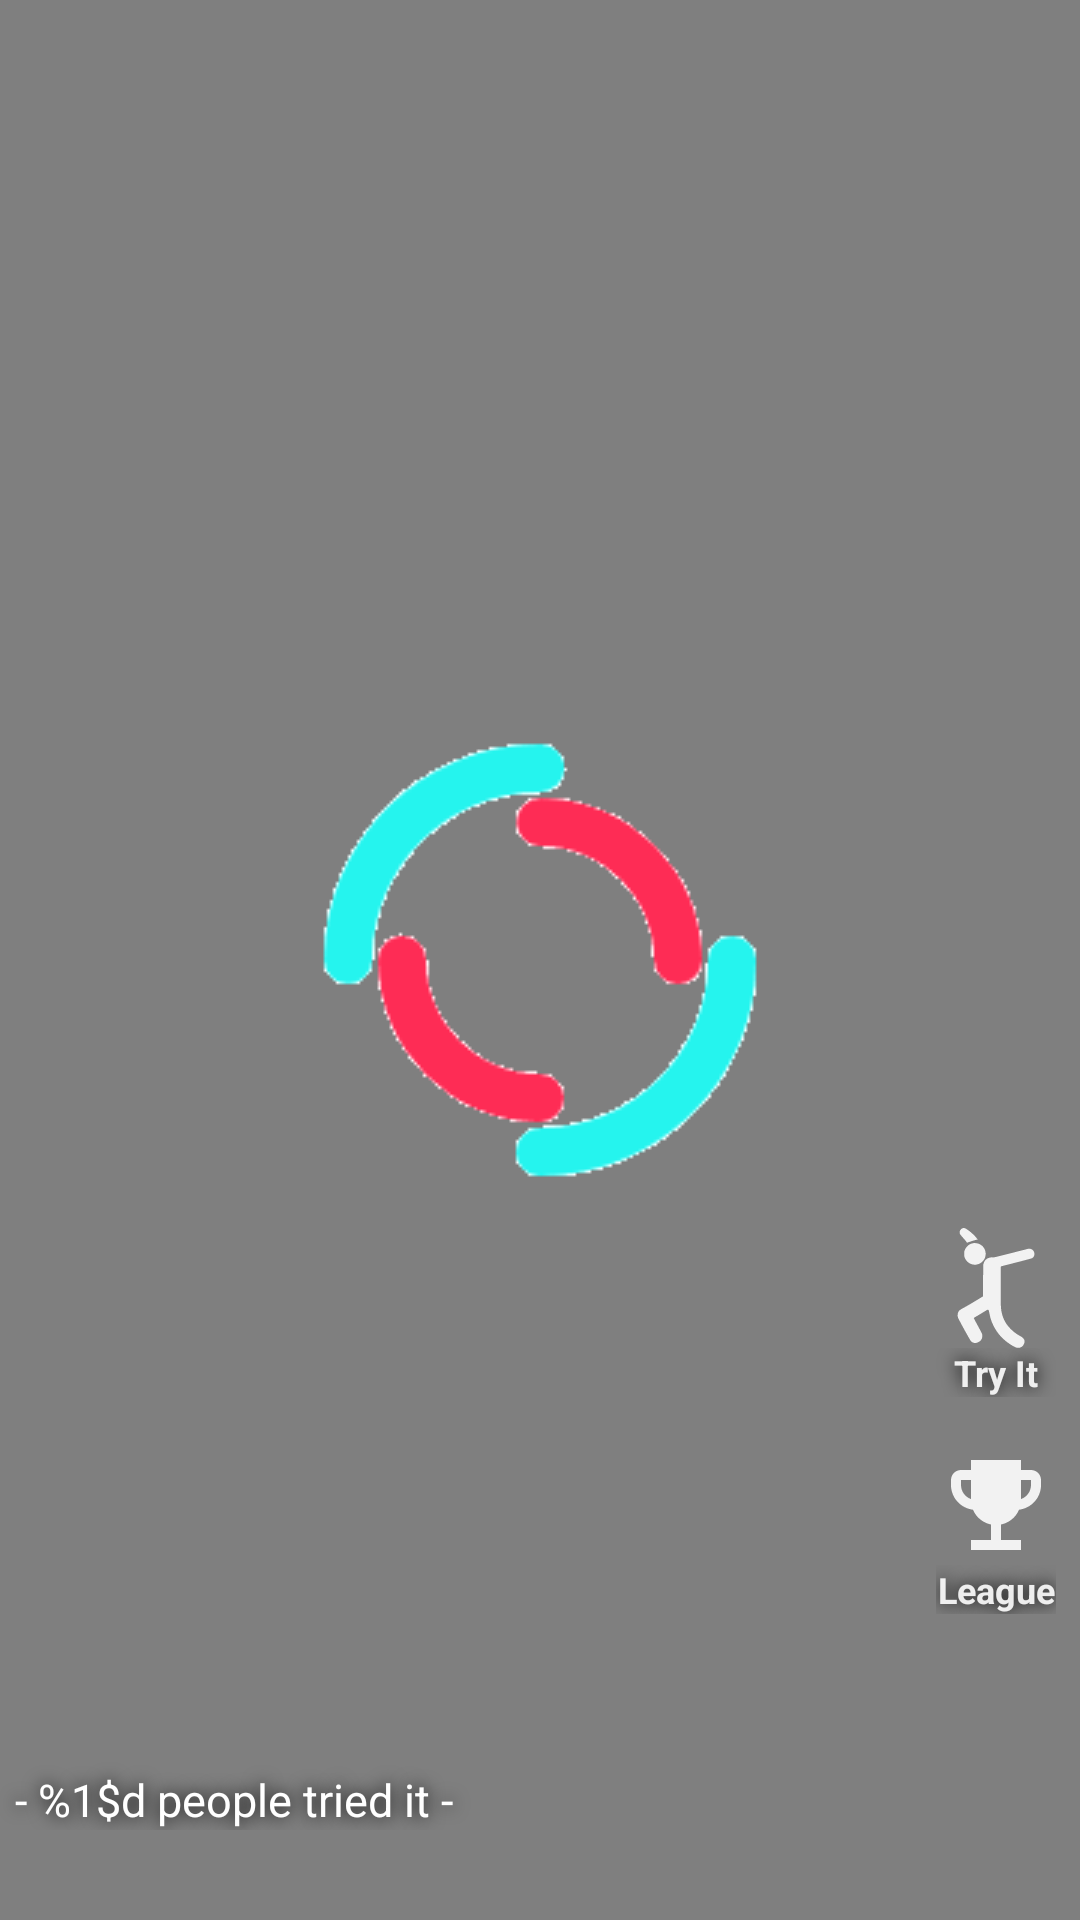

Screen size 1080px×1920px. Icon name, then its box in pixels as (x1, y1, x2, y2):
emoji events: (951, 1460, 1041, 1550)
